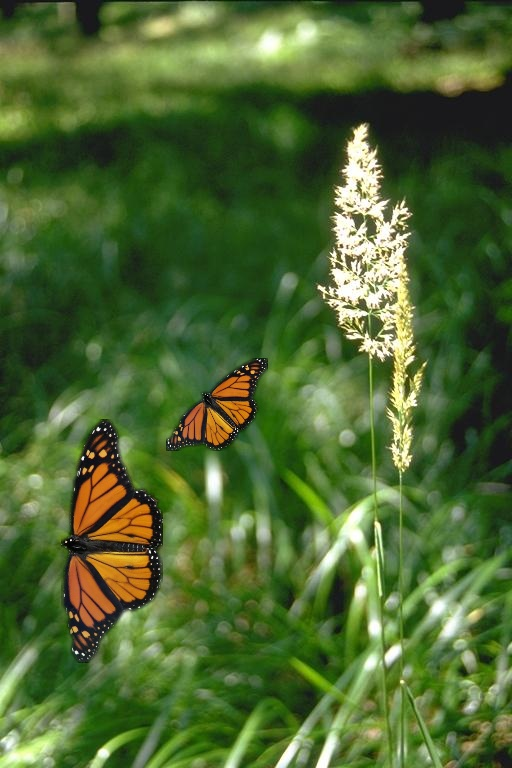danaus_plexippus: (61, 419, 163, 663), (166, 358, 268, 451)
